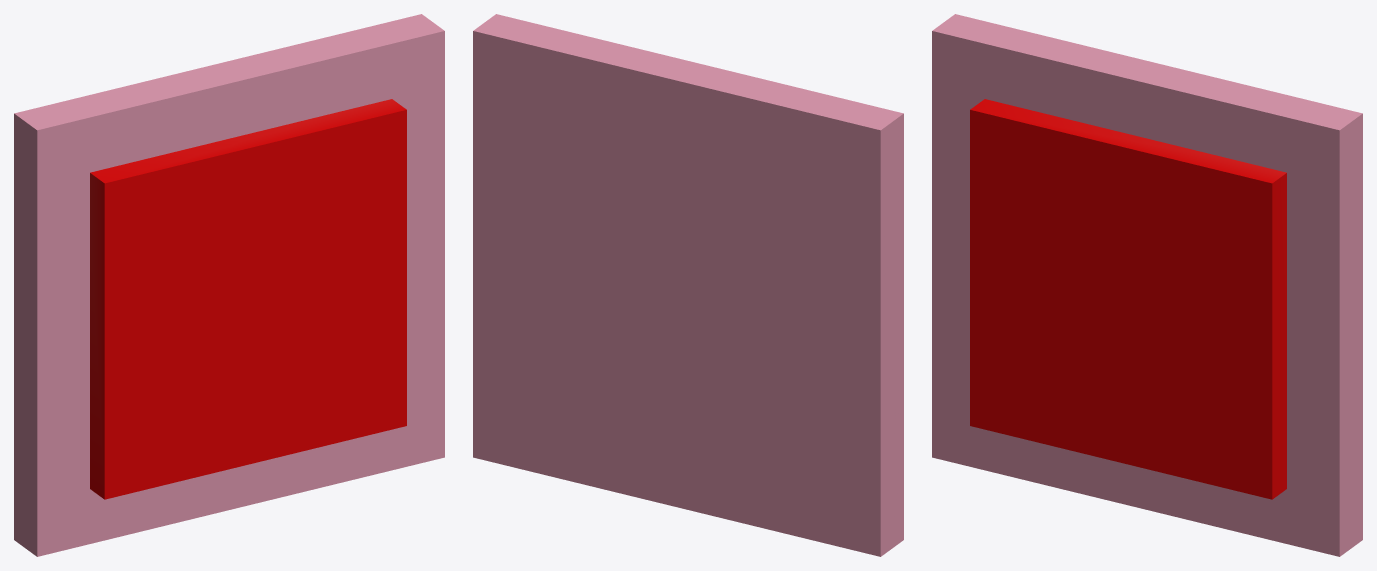
File: Button_Rumescape.fbx
3 renders of one model, left to right at view 1: azimuth 30°, elevation 25°; view 2: azimuth 150°, elevation 25°; view 3: azimuth 330°, elevation 25°, orthographic.
Parts seen in each view (by area): view 1: Cube.001, Cube; view 2: Cube; view 3: Cube.001, Cube.
Part boxes in pixels (left/top/right/bottom): Cube.001: left=90, top=99, right=406, bottom=499; Cube: left=14, top=14, right=444, bottom=556; Cube: left=473, top=14, right=903, bottom=556; Cube.001: left=970, top=99, right=1286, bottom=499; Cube: left=932, top=14, right=1362, bottom=556.
Size of the model in its own units: 105 by 105 by 16.92.
